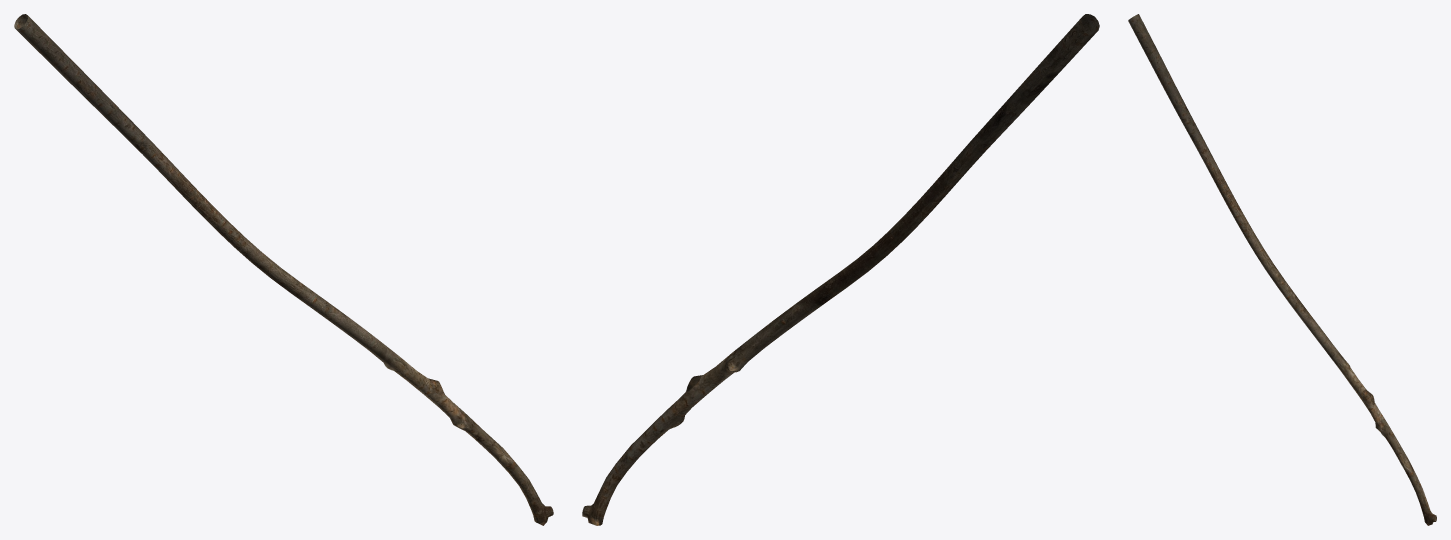
3 renders of one model, left to right at view 1: azimuth 30°, elevation 25°; view 2: azimuth 150°, elevation 25°; view 3: azimuth 330°, elevation 25°, orthographic. The views are drawn at different scales.
Parts seen in each view (by area): view 1: G-Line003.018; view 2: G-Line003.018; view 3: G-Line003.018.
Boxes of the visible parts, <box> form: G-Line003.018: <box>14,14,553,525</box>; G-Line003.018: <box>582,14,1099,525</box>; G-Line003.018: <box>1128,14,1436,525</box>.
Size of the model in its own units: 1.05 by 1.21 by 0.1986.
Materials: 1 (1 with a texture image).
